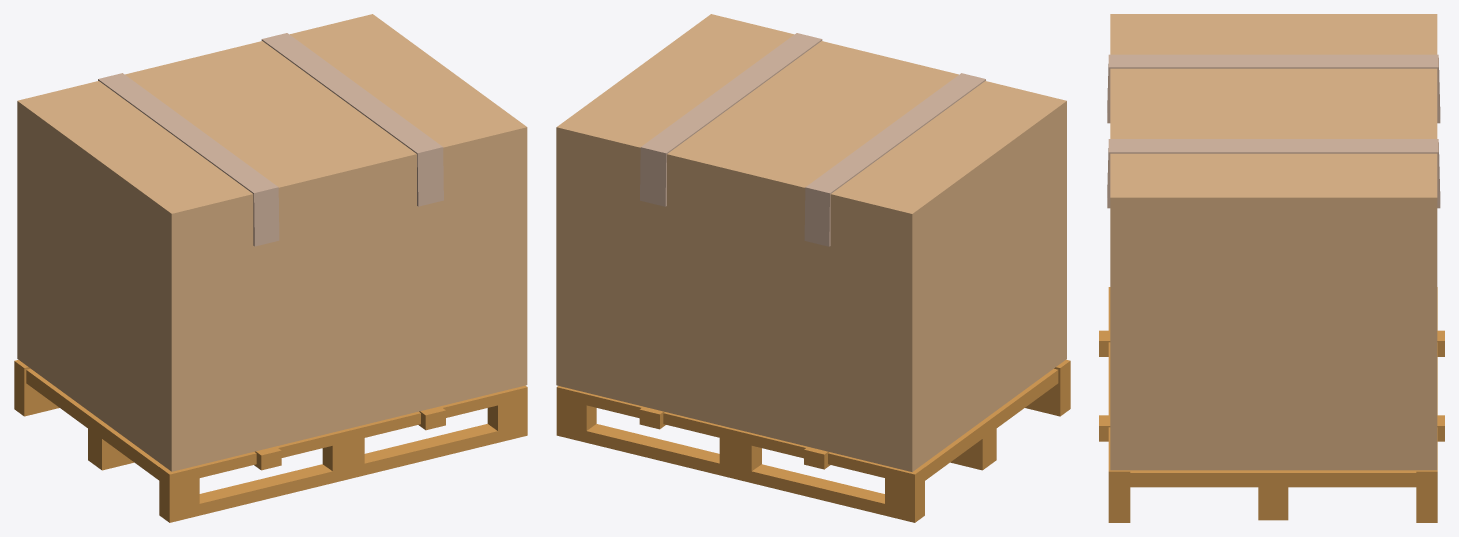
The model's file is crate.fbx.
3 renders of one model, left to right at view 1: azimuth 30°, elevation 25°; view 2: azimuth 150°, elevation 25°; view 3: azimuth 270°, elevation 25°, orthographic. The views are drawn at different scales.
Parts seen in each view (by area): view 1: polySurface20; view 2: polySurface20; view 3: polySurface20.
Boxes of the visible parts, box(x1,y1,x2,y2) form: polySurface20: box(14, 14, 527, 522); polySurface20: box(556, 14, 1070, 522); polySurface20: box(1099, 14, 1444, 522).
Size of the model in its own units: 1.41 by 1.17 by 1.12.
